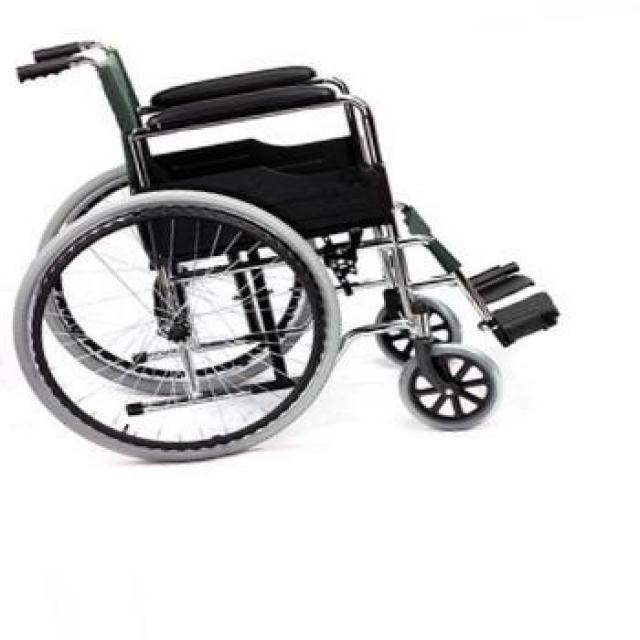wheelchair: (2, 38, 570, 474)
